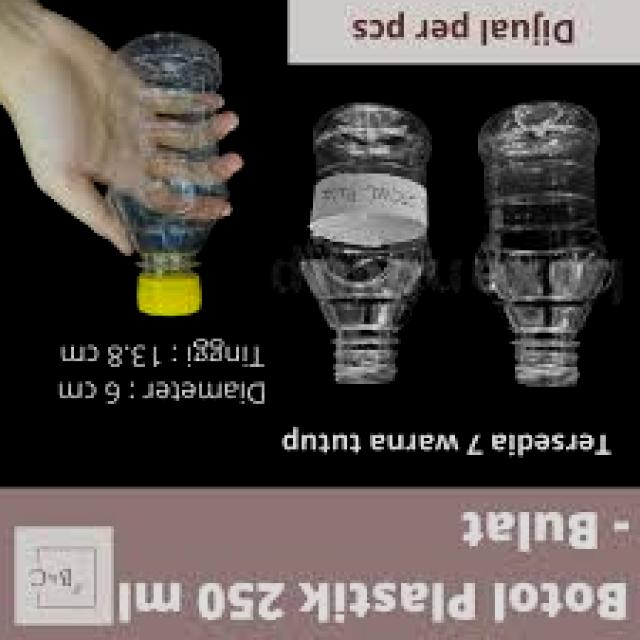bottle: (287, 114, 432, 416), (86, 28, 228, 332), (471, 110, 607, 402)
